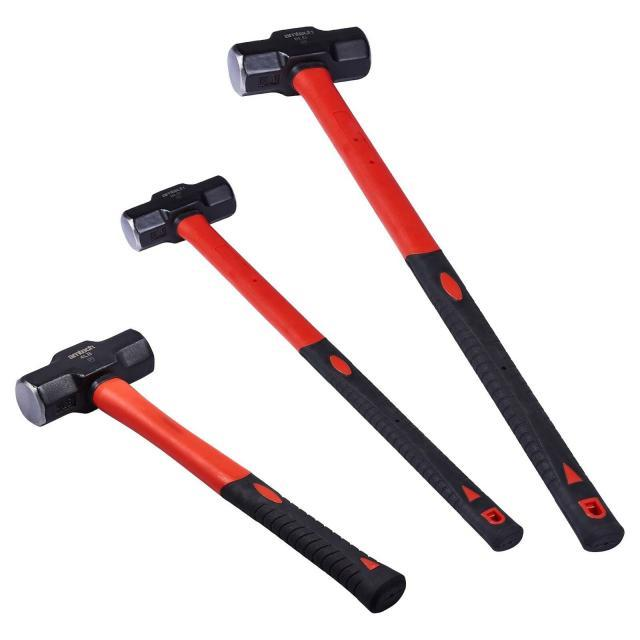hammer: (224, 23, 629, 563), (115, 170, 528, 556), (0, 321, 419, 622)
